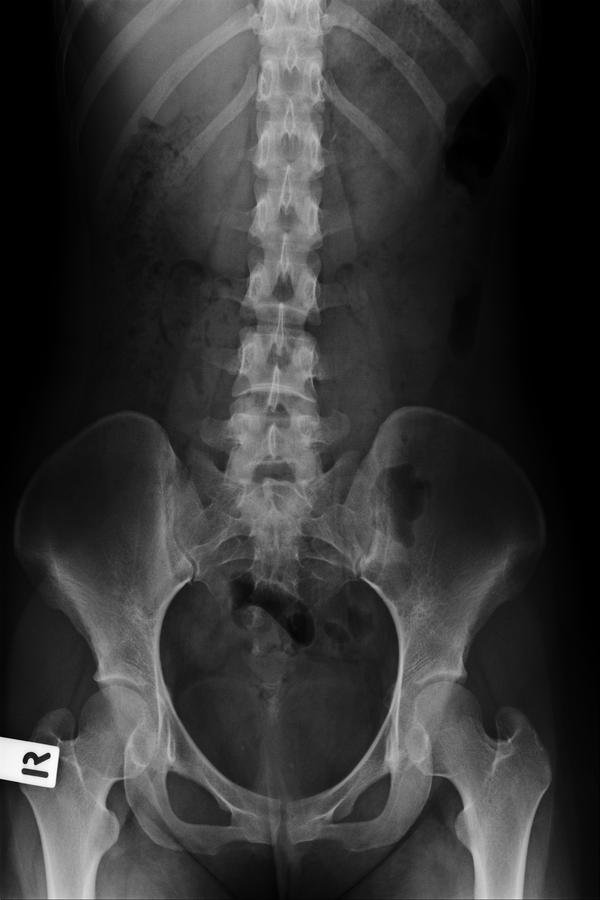not lumbar scoliosis: (221, 85, 335, 523)
